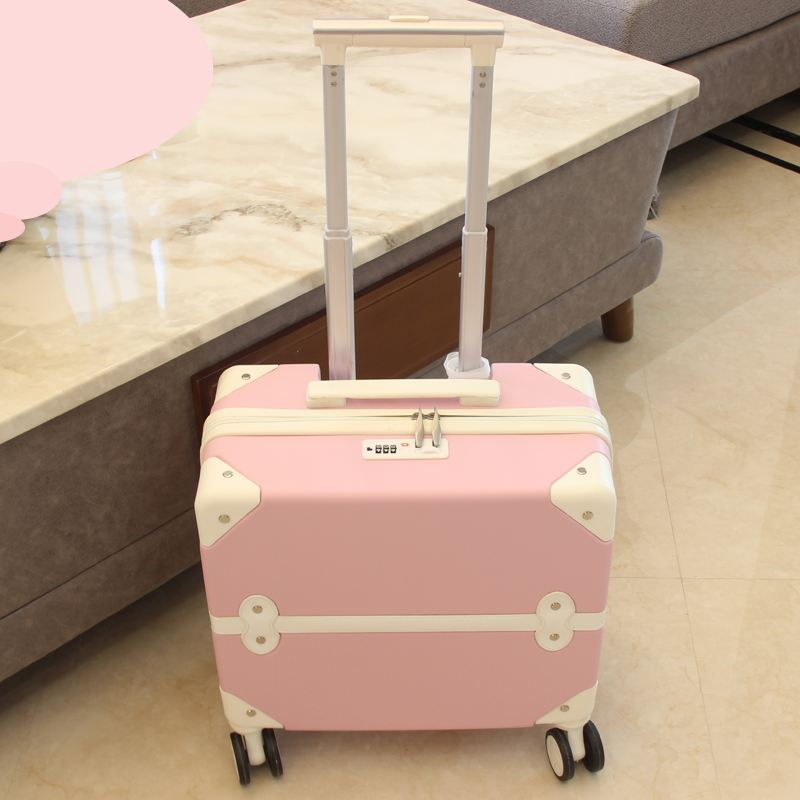box: (195, 363, 617, 733)
handle: (306, 378, 500, 407)
lock: (362, 438, 448, 460)
wheel: (545, 720, 605, 781), (228, 730, 285, 786)
